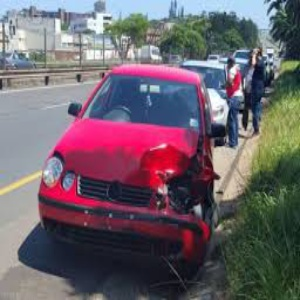bonnet: (126, 135, 196, 188)
